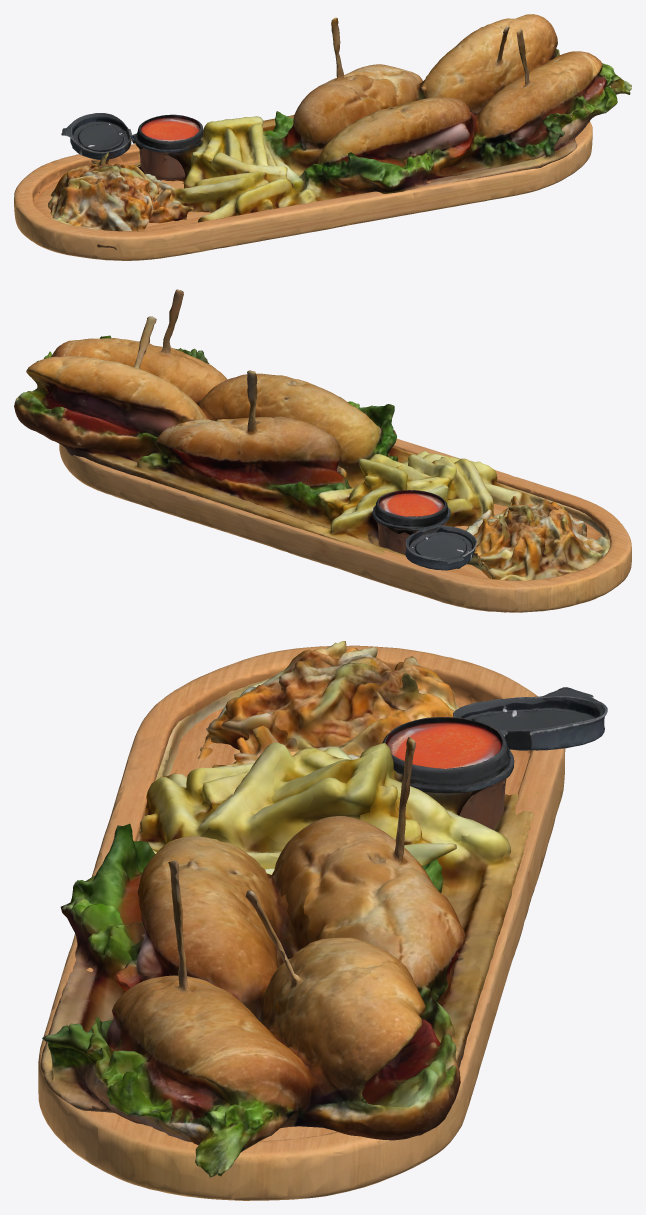
The picture shows the model from 3 angles, top to bottom: view 1: azimuth 30°, elevation 25°; view 2: azimuth 150°, elevation 25°; view 3: azimuth 270°, elevation 25°; orthographic projection. The views are drawn at different scales.
Parts seen in each view (by area): view 1: Submesh_0.003, Submesh_0.002, Submesh_0; view 2: Submesh_0.003, Submesh_0.002, Submesh_0; view 3: Submesh_0.003, Submesh_0.002, Submesh_0.
Part boxes in pixels (x1=…): Submesh_0.003: x1=43, y1=14, x2=631, y2=249; Submesh_0.002: x1=14, y1=121, x2=592, y2=260; Submesh_0: x1=61, y1=113, x2=203, y2=179; Submesh_0.003: x1=14, y1=289, x2=610, y2=580; Submesh_0.002: x1=59, y1=438, x2=631, y2=612; Submesh_0: x1=372, y1=490, x2=476, y2=570; Submesh_0.003: x1=40, y1=641, x2=538, y2=1177; Submesh_0.002: x1=38, y1=645, x2=565, y2=1200; Submesh_0: x1=382, y1=687, x2=607, y2=829.
Size of the model in its own units: 0.4383 by 0.0992 by 0.1888.
Materials: 3 (3 with a texture image).
